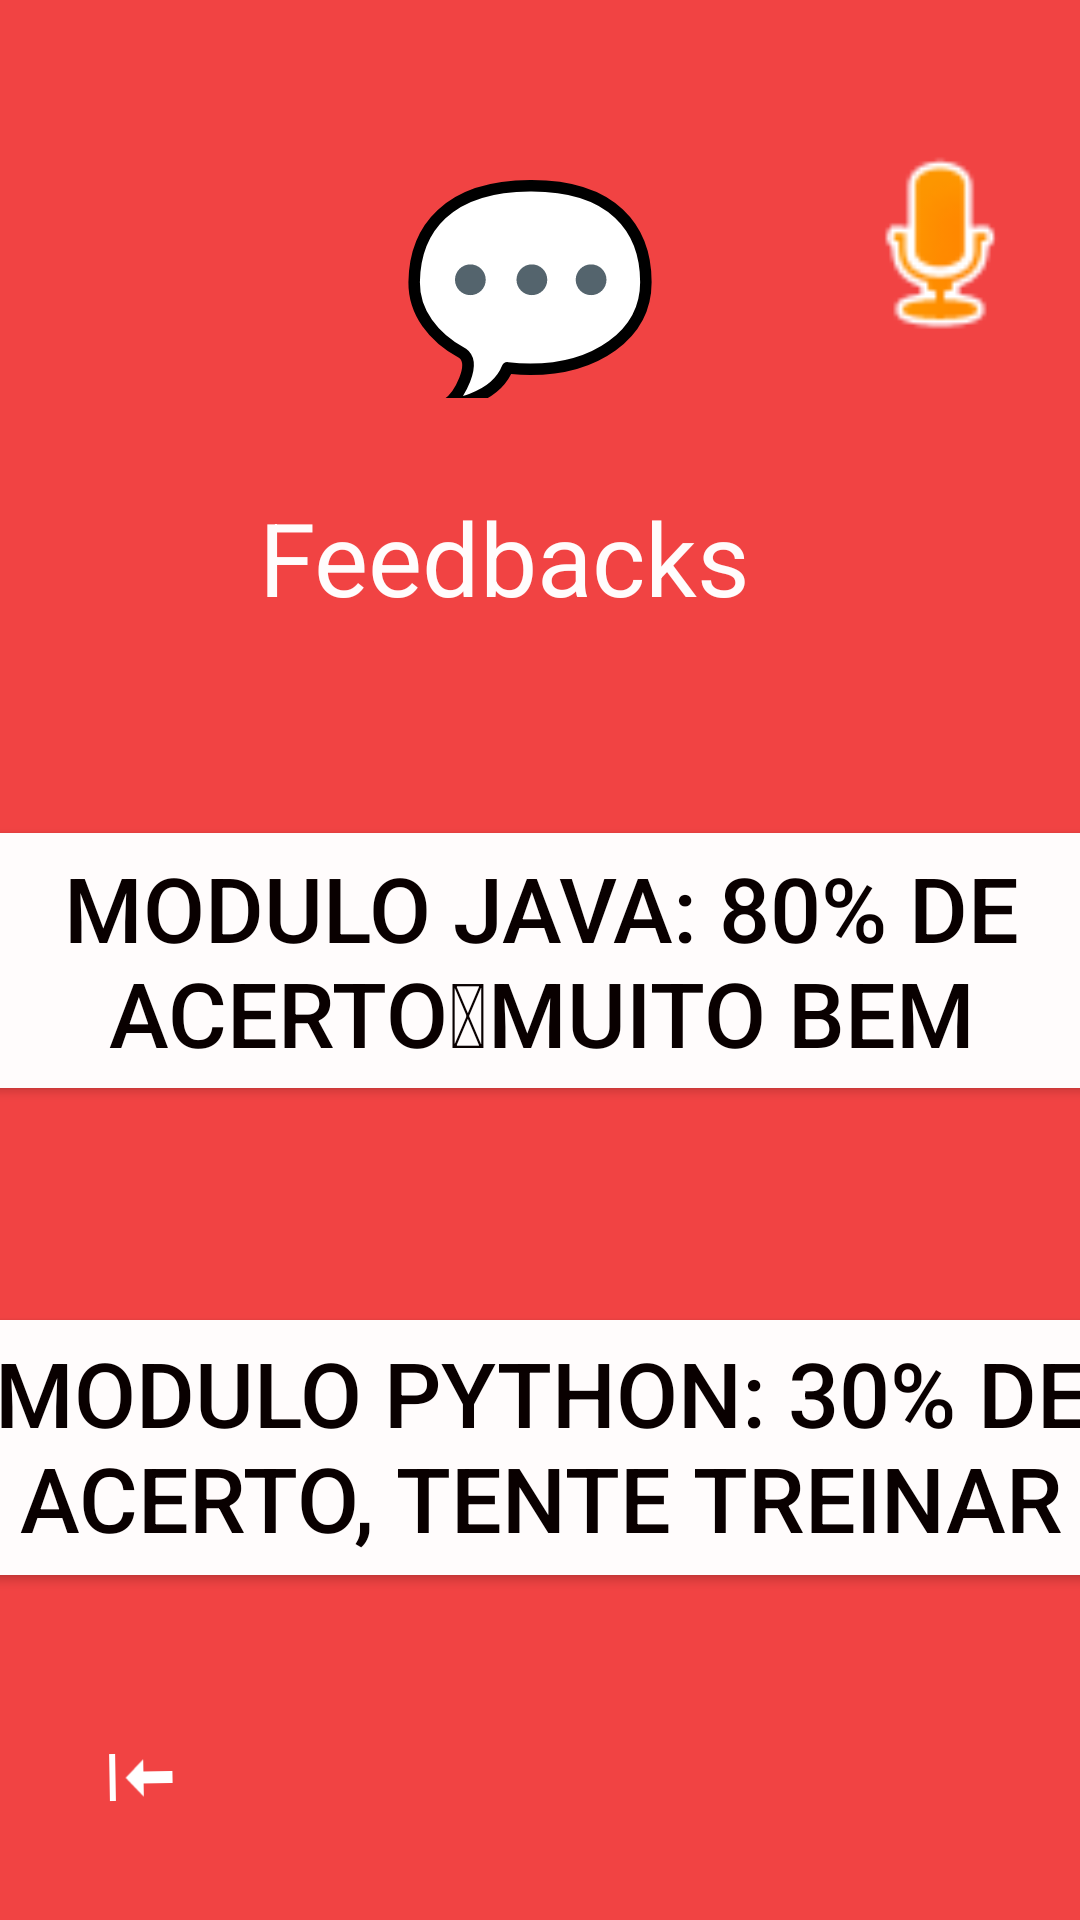

Point at icon controls on the screen. Image size 1080*1920, points as (x,y).
presence audio away: (940,244)
